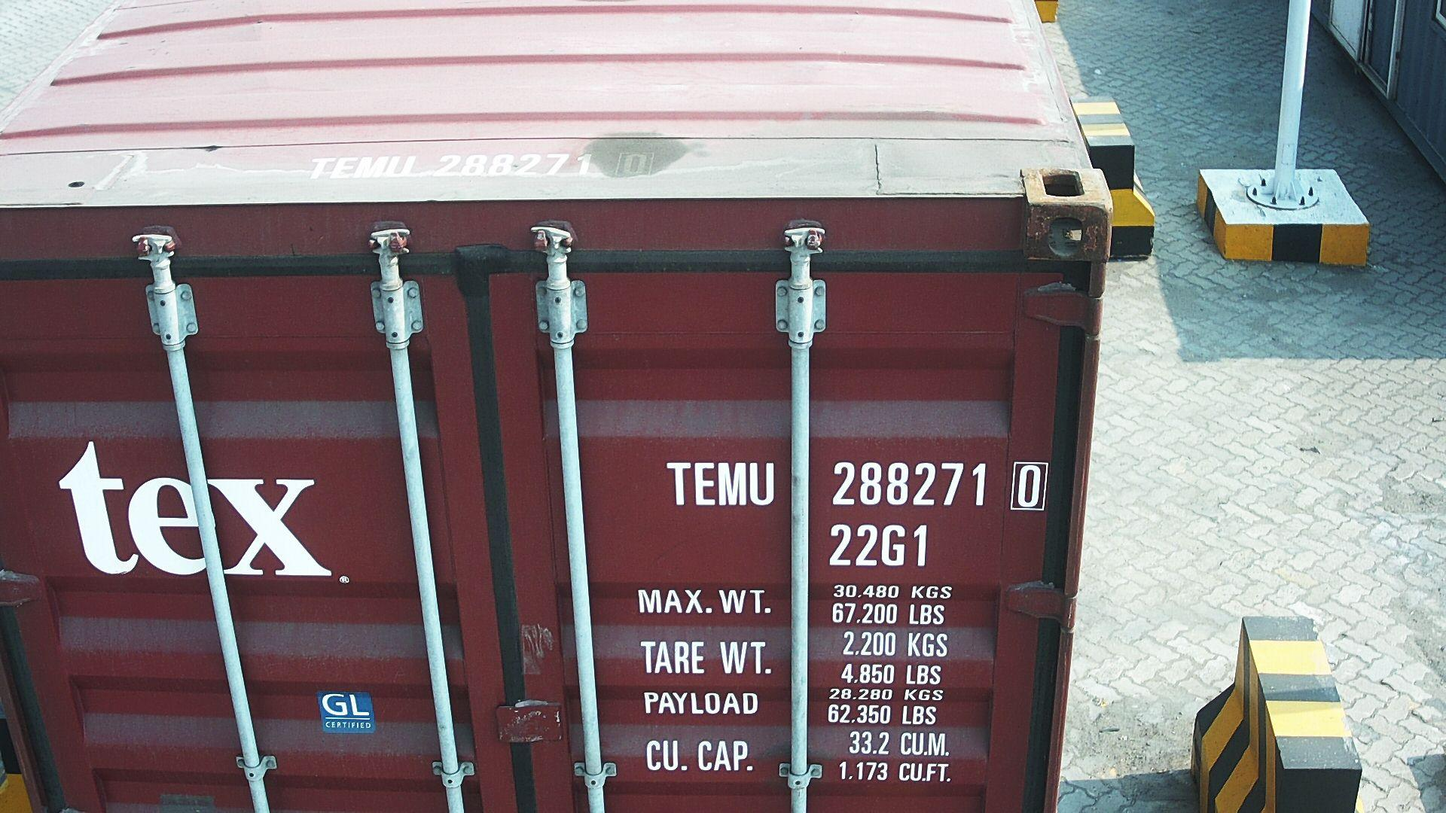container-numbers: (662, 455, 1052, 514), (297, 148, 660, 181), (824, 521, 931, 571)
